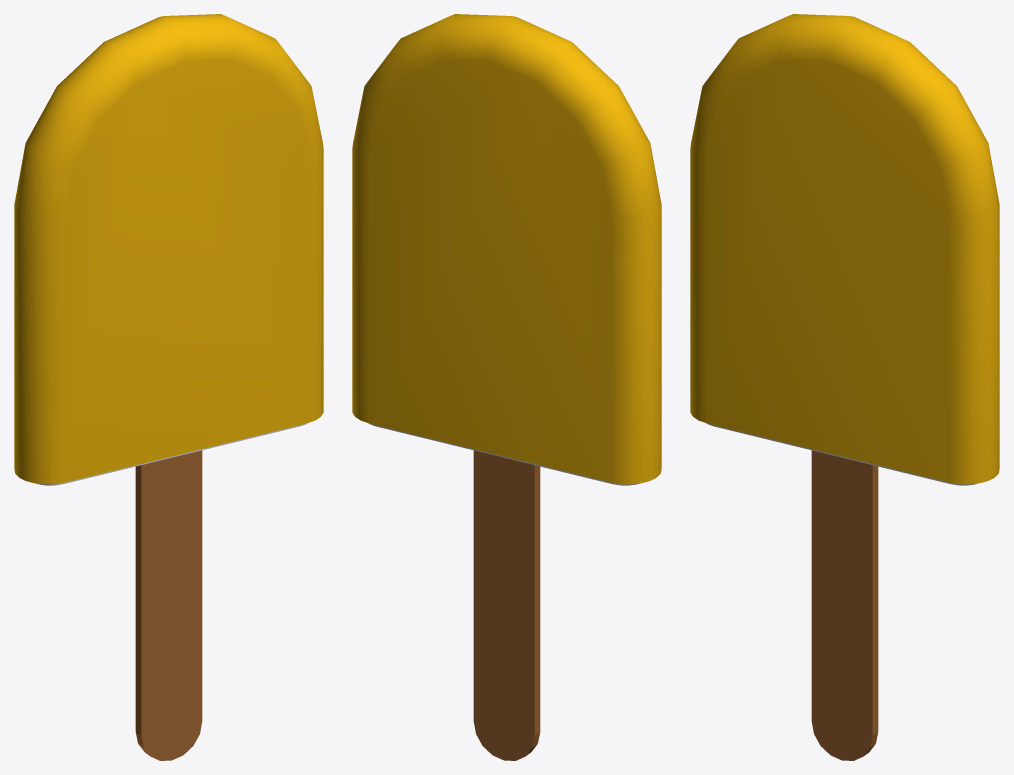
File: IceCream.fbx
3 views of the same model, side by side, from view 1: azimuth 30°, elevation 25°; view 2: azimuth 150°, elevation 25°; view 3: azimuth 330°, elevation 25° (orthographic).
Visible parts, largest first — view 1: IceCream; view 2: IceCream; view 3: IceCream.
Boxes of the visible parts, box(x1,y1,x2,y2) form: IceCream: box(14, 14, 323, 760); IceCream: box(352, 14, 661, 760); IceCream: box(690, 14, 999, 760).
Bounding box in the file's own units: 5.1 × 12 × 0.9842.
